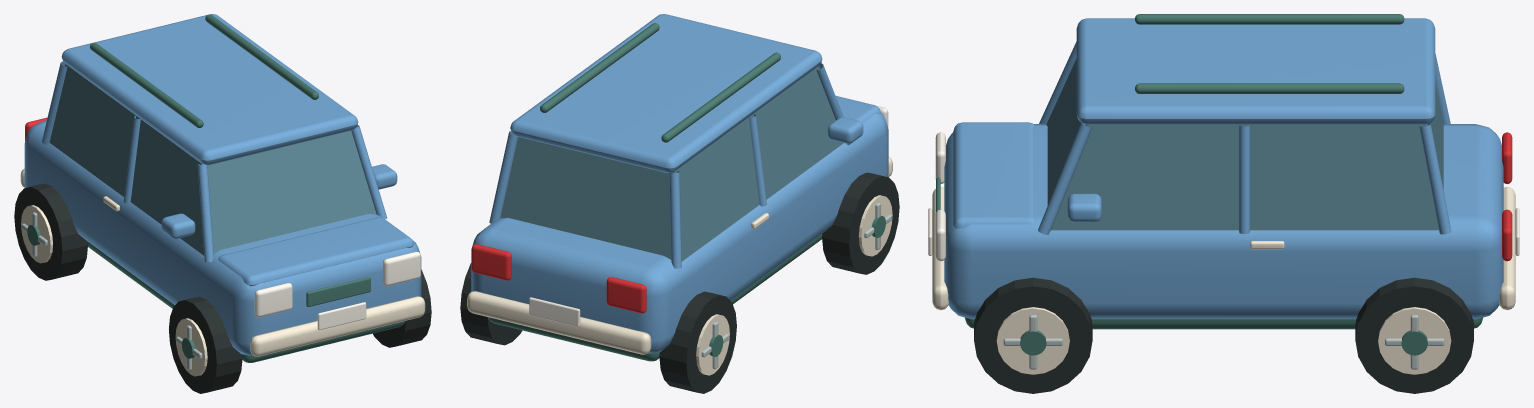
File: car-estate.glb
3 views of the same model, side by side, from view 1: azimuth 30°, elevation 25°; view 2: azimuth 150°, elevation 25°; view 3: azimuth 270°, elevation 25° (orthographic). The views are drawn at different scales.
Parts seen in each view (by area): view 1: bonnet, cabin glazing, front grille.001, rubber tyre.005, rubber tyre.004, bumper.002, headlight.001, rubber tyre.006, wheel rim.005, wheel rim.004; view 2: bonnet, cabin glazing, front grille.001, rubber tyre.004, rubber tyre.005, bumper.002, tail light.001, rubber tyre.007, wheel rim.005, wheel rim.004, headlight.001; view 3: bonnet, cabin glazing, front grille.001, rubber tyre.006, rubber tyre.007, wheel rim.006, wheel rim.007, bumper.002, headlight.001, tail light.001, hub.006, hub.007 (+2 smaller).
Boxes of the visible parts, <box> form: bonnet: <box>24,14,421,355</box>; cabin glazing: <box>49,64,376,255</box>; front grille.001: <box>87,14,405,362</box>; rubber tyre.005: <box>14,183,87,280</box>; rubber tyre.004: <box>169,296,242,393</box>; bumper.002: <box>20,168,425,356</box>; headlight.001: <box>254,251,420,330</box>; rubber tyre.006: <box>373,269,431,347</box>; wheel rim.005: <box>21,205,52,263</box>; wheel rim.004: <box>175,318,207,376</box>; bonnet: <box>471,14,888,353</box>; cabin glazing: <box>500,66,843,261</box>; front grille.001: <box>488,23,822,361</box>; rubber tyre.004: <box>822,172,899,274</box>; rubber tyre.005: <box>659,291,736,393</box>; bumper.002: <box>467,157,892,354</box>; tail light.001: <box>471,244,646,313</box>; rubber tyre.007: <box>460,263,522,345</box>; wheel rim.005: <box>696,314,729,375</box>; wheel rim.004: <box>858,195,892,256</box>; headlight.001: <box>529,106,888,326</box>; bonnet: <box>944,18,1503,319</box>; cabin glazing: <box>1046,58,1443,230</box>; front grille.001: <box>936,14,1483,329</box>; rubber tyre.006: <box>974,277,1092,393</box>; rubber tyre.007: <box>1355,277,1473,393</box>; wheel rim.006: <box>996,307,1069,374</box>; wheel rim.007: <box>1378,307,1451,374</box>; bumper.002: <box>932,187,1515,310</box>; headlight.001: <box>928,132,1519,261</box>; tail light.001: <box>1502,132,1512,261</box>; hub.006: <box>1020,330,1046,355</box>; hub.007: <box>1401,330,1427,355</box>.
Size of the model in its own units: 1.41 by 1.35 by 2.59.
